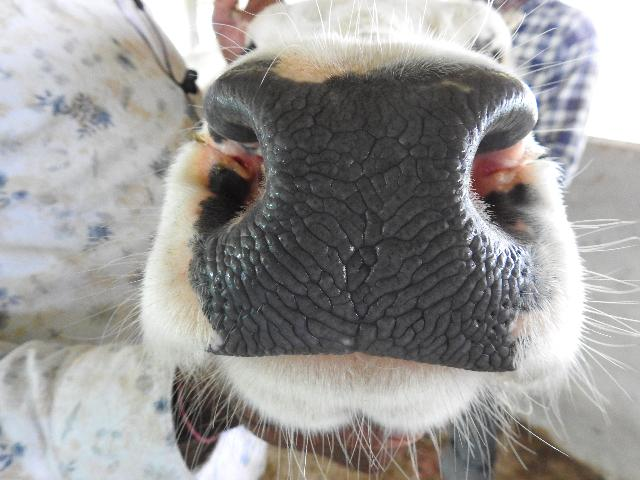Muzzle: (228, 76, 490, 369)
